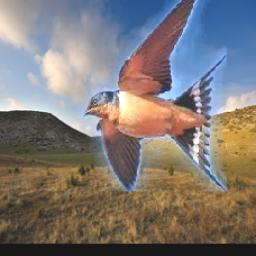Swallow: (79, 0, 227, 192)
